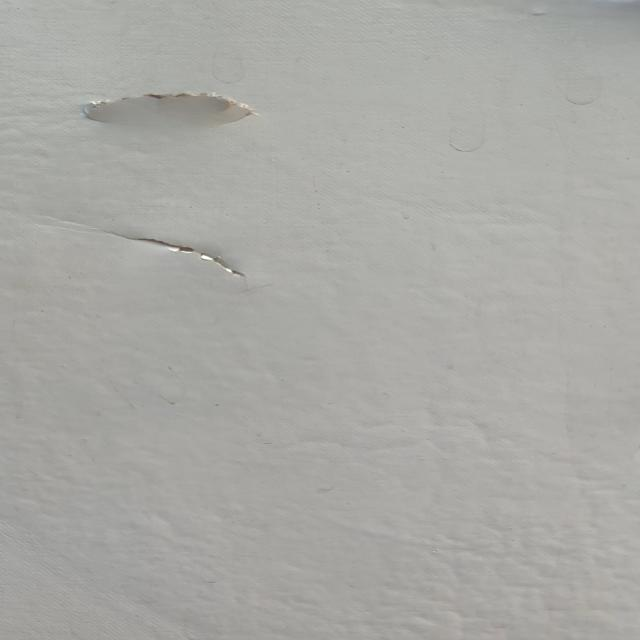Scratches: (94, 227, 295, 284), (62, 88, 273, 131)
